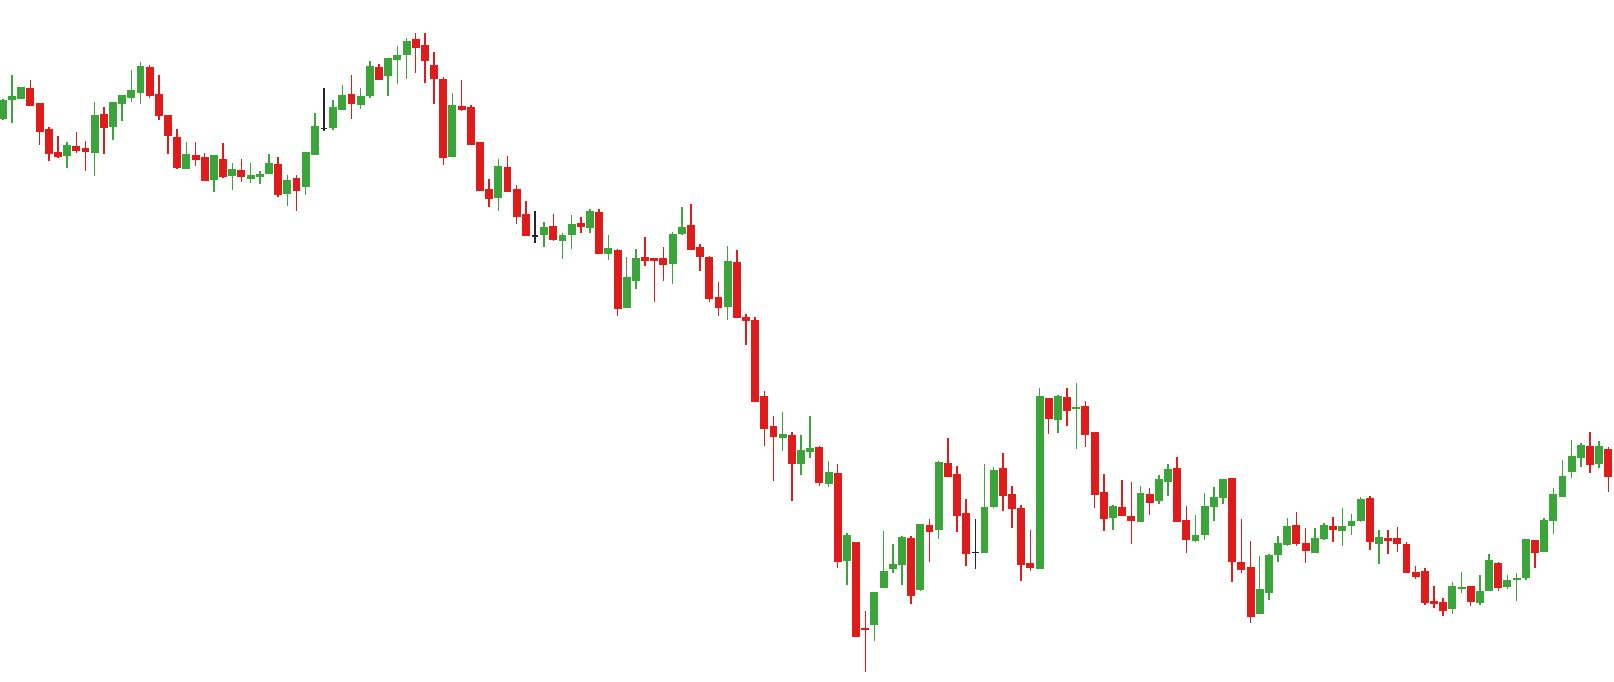buy: (961, 488, 1049, 585)
sell: (639, 200, 696, 275)
